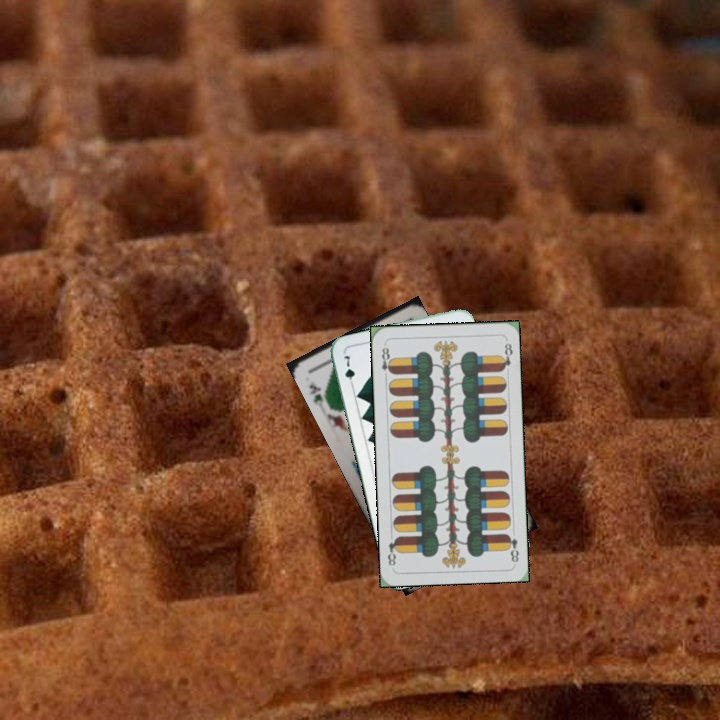E8: (503, 525, 521, 565), (378, 344, 395, 382)
G7: (340, 351, 357, 391)
GK: (305, 380, 326, 408)
